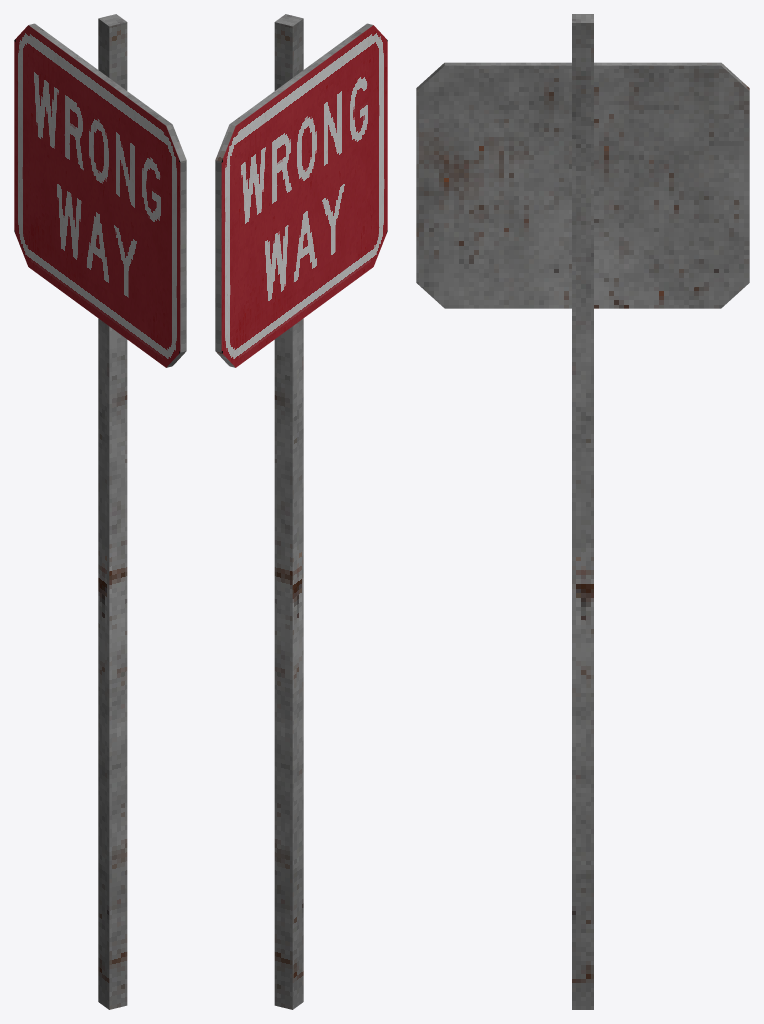
The model's file is Sign_WrongWay.glb.
3 renders of one model, left to right at view 1: azimuth 30°, elevation 25°; view 2: azimuth 150°, elevation 25°; view 3: azimuth 270°, elevation 25°, orthographic.
Visible parts, largest first — view 1: Sign_WrongWay; view 2: Sign_WrongWay; view 3: Sign_WrongWay.
Part boxes in pixels (box(x1,y1,x2,y2)): Sign_WrongWay: box(14, 14, 186, 1009); Sign_WrongWay: box(215, 14, 387, 1009); Sign_WrongWay: box(416, 14, 749, 1009).
Bounding box in the file's own units: 0.0576 × 2.21 × 0.6746.
1 material, 1 textured.
